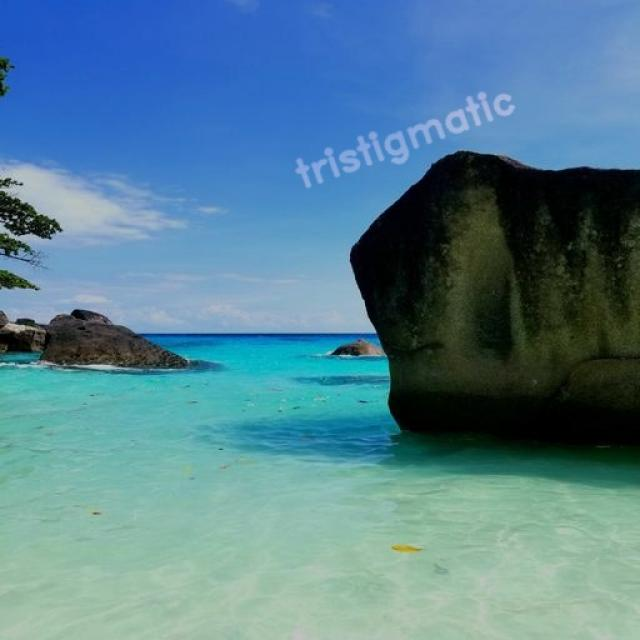watermark: (292, 80, 517, 194)
